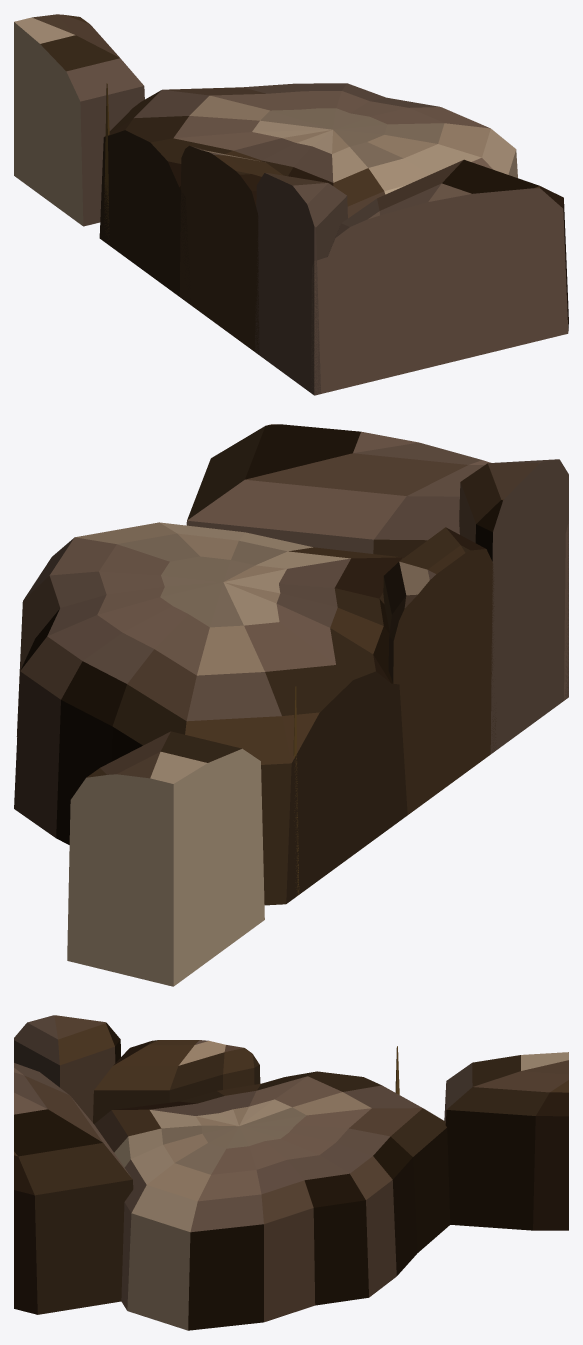
File: newshr-195.glb
The picture shows the model from 3 angles, top to bottom: view 1: azimuth 30°, elevation 25°; view 2: azimuth 150°, elevation 25°; view 3: azimuth 270°, elevation 25°; orthographic projection. The views are drawn at different scales.
Parts seen in each view (by area): view 1: newshr-195; view 2: newshr-195; view 3: newshr-195.
Boxes of the visible parts, x1,y1,x2,y2 form: newshr-195: [14, 14, 568, 395]; newshr-195: [14, 424, 568, 986]; newshr-195: [14, 1015, 568, 1330].
Bounding box in the file's own units: 1.36 × 0.8307 × 2.33.
